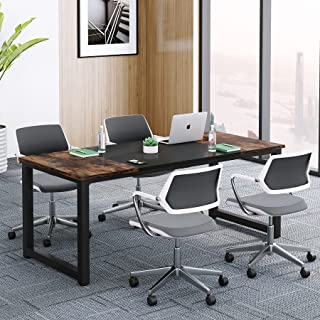conference_table: (19, 128, 286, 287)
